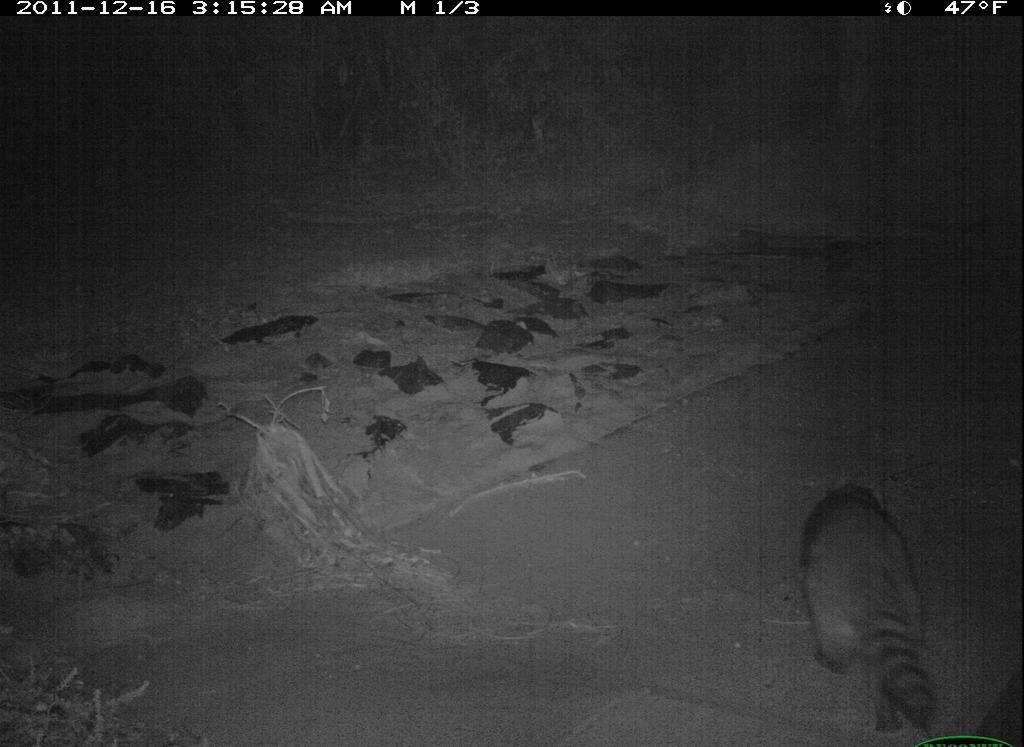raccoon: (789, 464, 961, 747)
